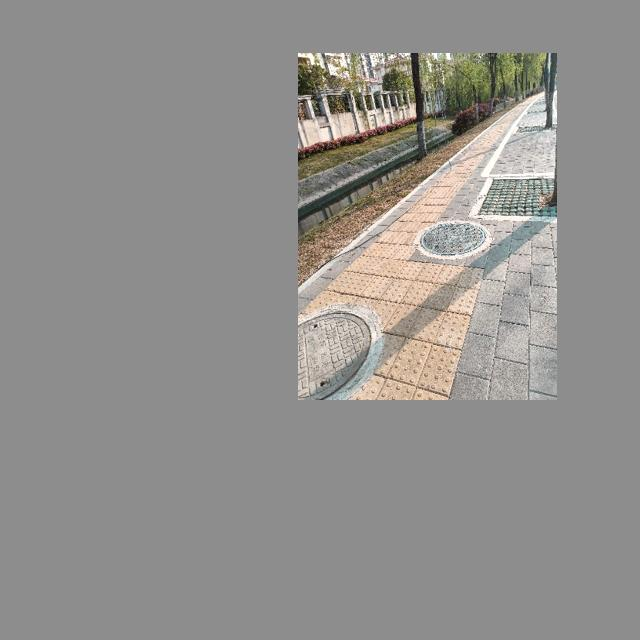good: (298, 307, 378, 400), (415, 219, 491, 257)
